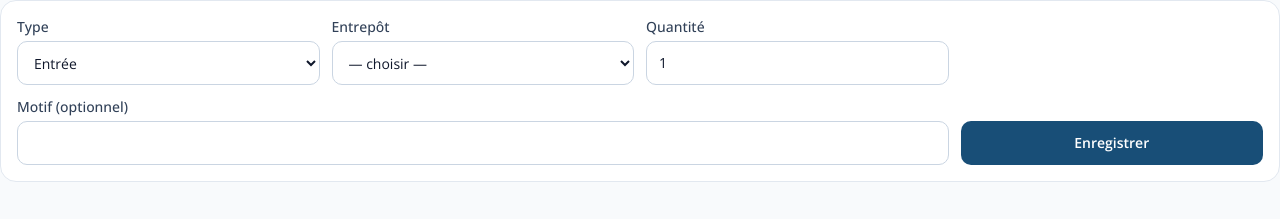
MovementForm › étant donné un transfert sans destination, quand enregistrer, alors destination exigée
Select "Transfert" in the dropdown labelled "Type" at (168, 63), box [17,41,320,85]
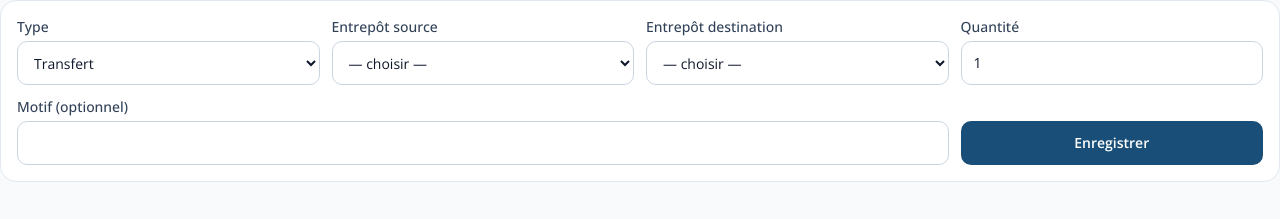
Now the text "Entrepôt destination" is shown, box [646,17,783,36]
Select "Boutique" in the dropdown labelled "Entrepôt source" at (483, 63), box [332,41,634,85]
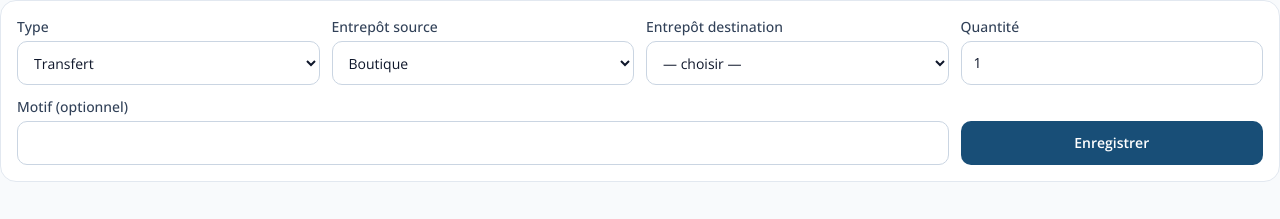
Click the button "Enregistrer" at (1112, 143), box [960,121,1263,165]
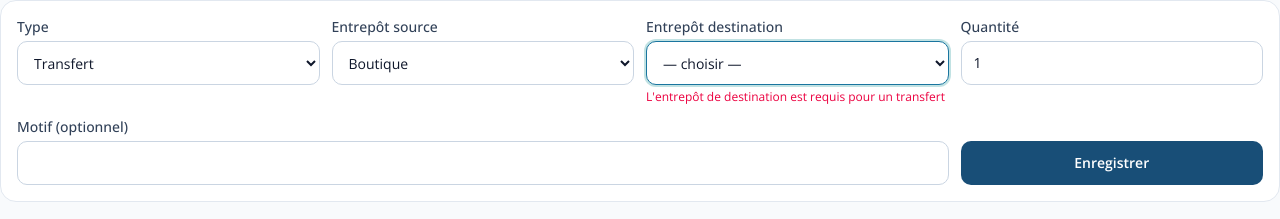
Now the text "L'entrepôt de destination est requis pour un transfert" is shown, box [646,89,948,105]
